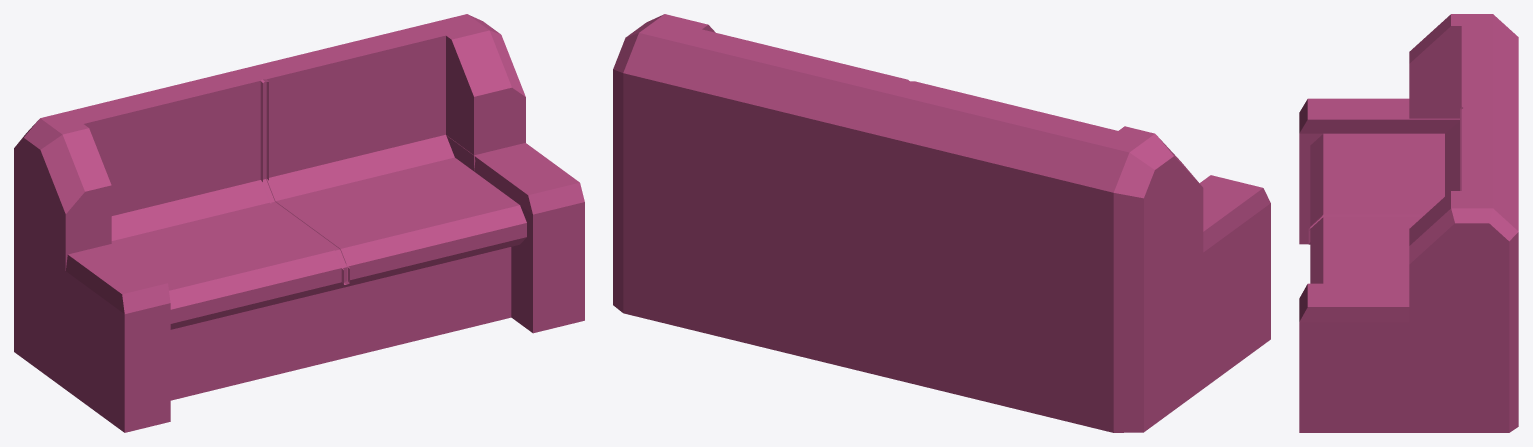
File: sofa2.fbx
The picture shows the model from 3 angles, left to right: view 1: azimuth 30°, elevation 25°; view 2: azimuth 150°, elevation 25°; view 3: azimuth 270°, elevation 25°; orthographic projection. The views are drawn at different scales.
Parts seen in each view (by area): view 1: Cube; view 2: Cube; view 3: Cube.
Part boxes in pixels (bbox=[...]): Cube: bbox=[14, 14, 584, 432]; Cube: bbox=[613, 14, 1270, 432]; Cube: bbox=[1299, 14, 1518, 432].
Bounding box in the file's own units: 811 × 394 × 359.
